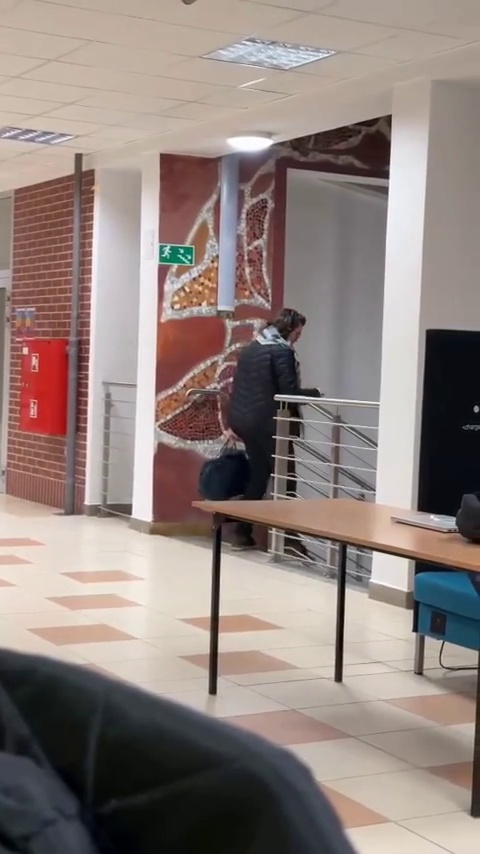no vest: (218, 309, 319, 571)
